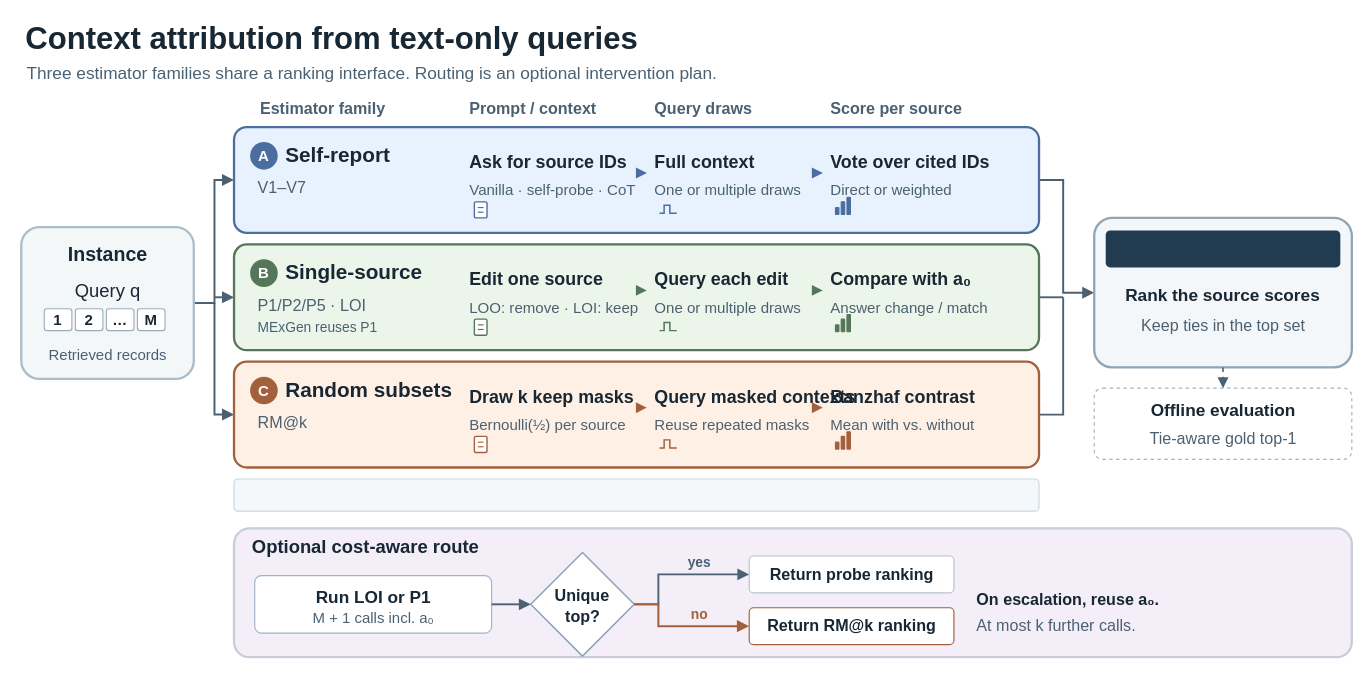
This 1372x679 diagram has some shape labels left out. The centre of each missing label's shape, as x and y in pixels:
Attribution ranking: the point at 1222,248
Shared by B and C: one full-context reference a₀. Invalid reference → stop.: the point at 636,494
